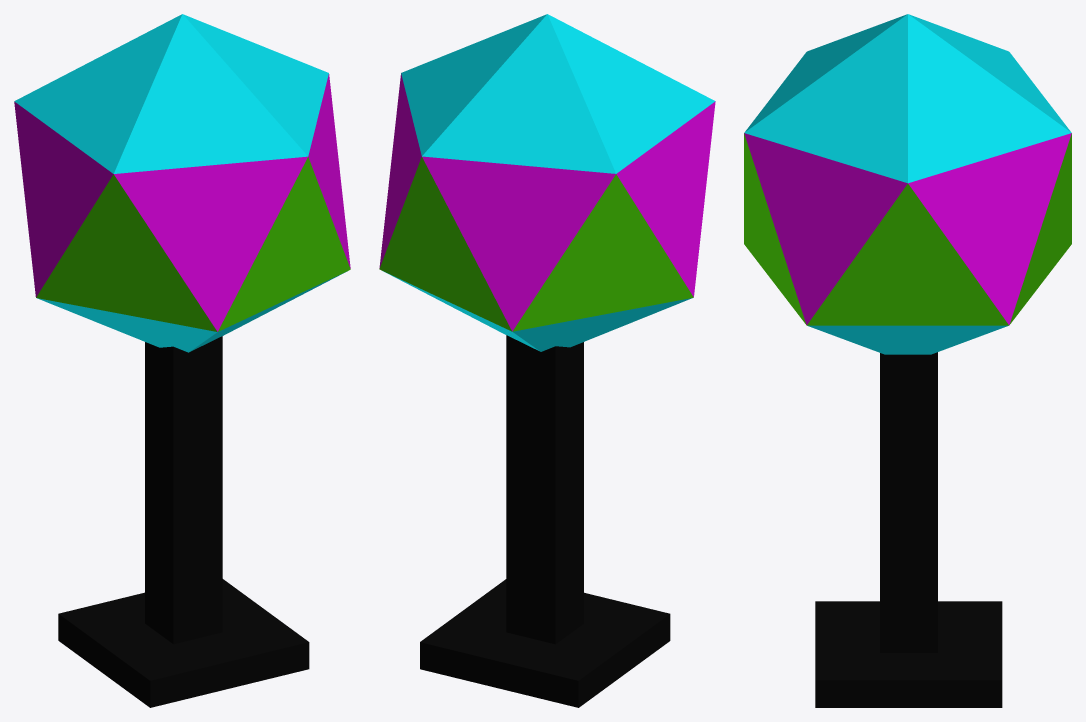
The model's file is PartyLight_01.fbx.
The picture shows the model from 3 angles, left to right: view 1: azimuth 30°, elevation 25°; view 2: azimuth 150°, elevation 25°; view 3: azimuth 270°, elevation 25°; orthographic projection.
Visible parts, largest first — view 1: Icosphere, Cube.003; view 2: Icosphere, Cube.003; view 3: Icosphere, Cube.003.
Part boxes in pixels (left/top/right/bottom): Icosphere: left=14, top=14, right=350, bottom=352; Cube.003: left=58, top=336, right=309, bottom=707; Icosphere: left=379, top=14, right=715, bottom=351; Cube.003: left=420, top=335, right=670, bottom=707; Icosphere: left=744, top=14, right=1071, bottom=354; Cube.003: left=815, top=352, right=1002, bottom=707.
Size of the model in its own units: 83.82 by 175 by 79.72.
